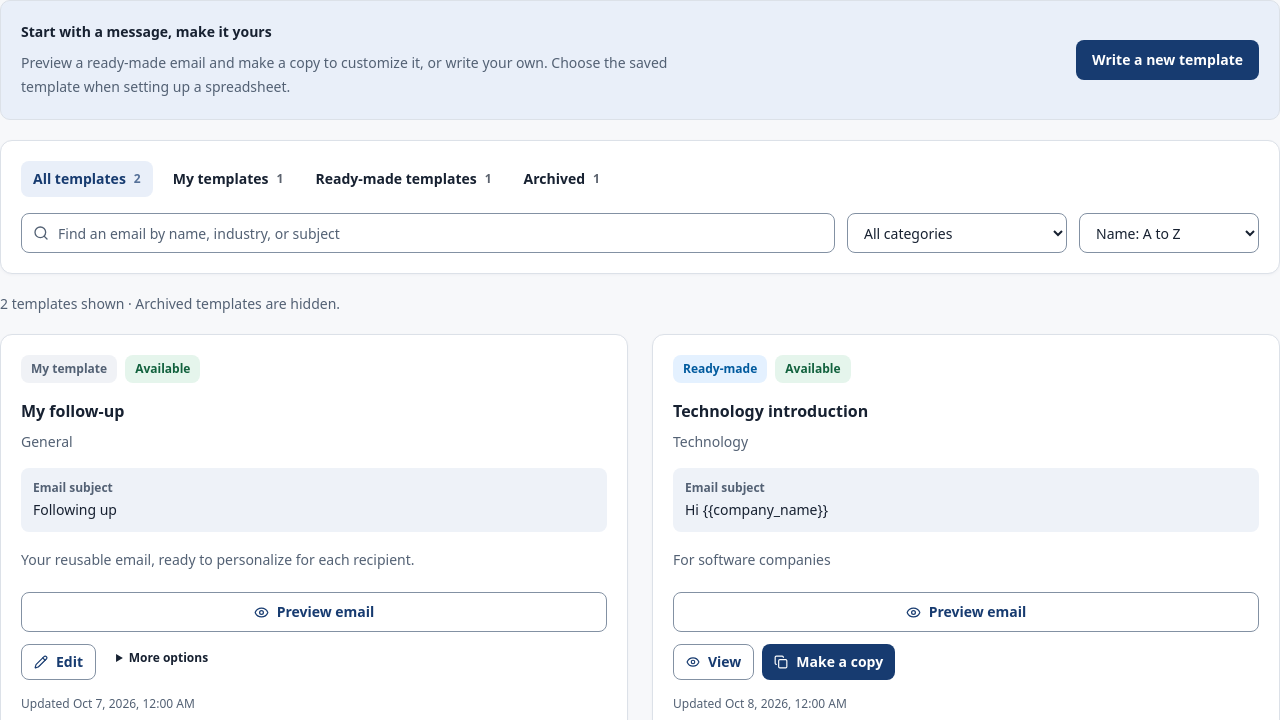
template library › hides archived templates until the user chooses Archived
Expected: the heading "Old email" is not shown
Click the button "Archived 1".
click(562, 179)  # box [512, 161, 612, 197]
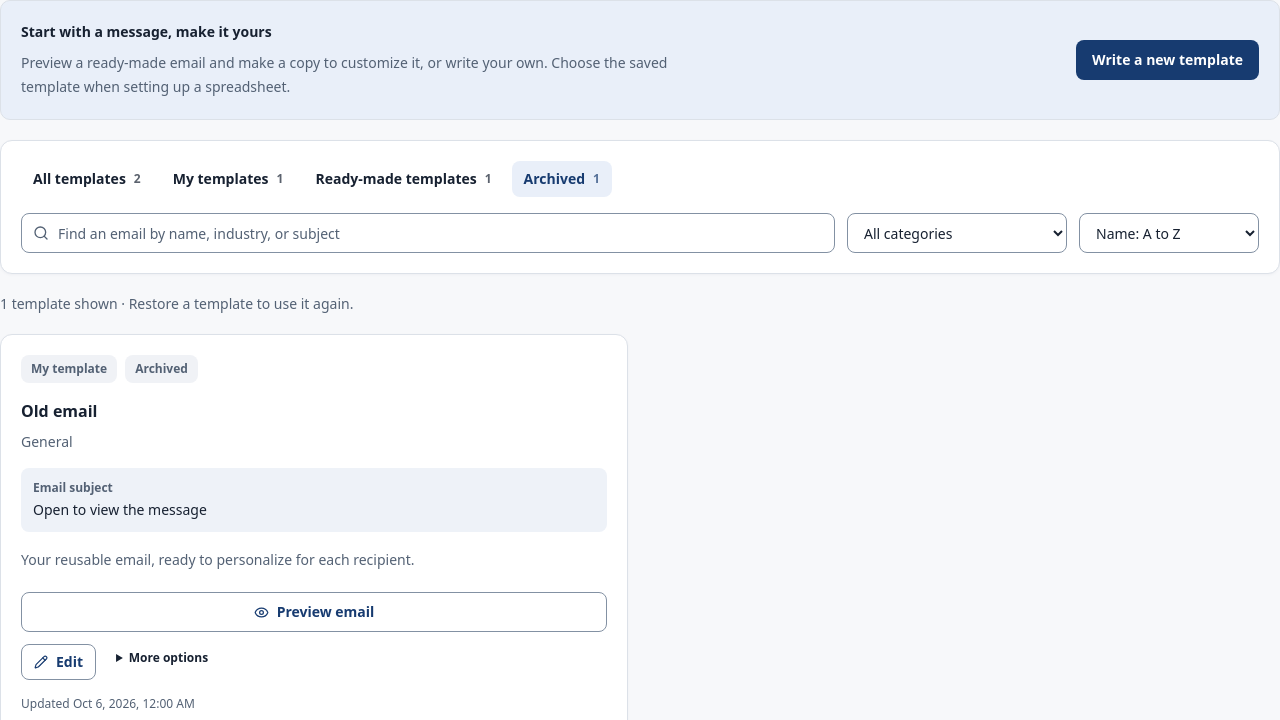
Expected: the heading "Old email" is shown, [21, 400, 98, 422]
Expected: the heading "My follow-up" is gone
